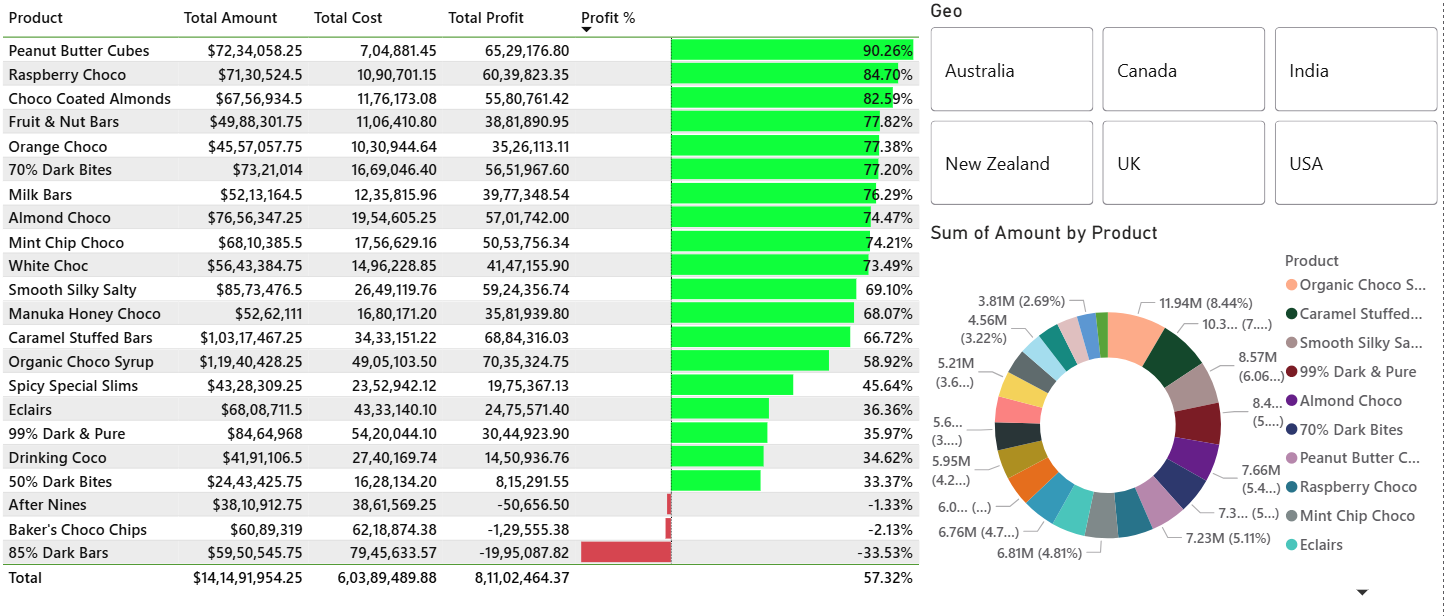

The page's visual inventory and layout, read from the dashboard file:
{"tool":"powerbi","page":{"name":"Page 1","canvas":[1280,720],"ordinal":0},"visuals":[{"type":"tableEx","fields":{"Values":["products.Product","shipments.Total Amount","shipments.Total Cost","shipments.Total Profit","shipments.Profit %"]},"box":[10,0,815,533.3],"z":0},{"type":"advancedSlicerVisual","fields":{"Values":["locations.Geo"]},"box":[825,0,455,186.7],"z":1000},{"type":"donutChart","fields":{"Category":["products.Product"],"Y":["Sum(shipments.Amount)"]},"box":[825,195,455,338.3],"z":2000}]}

Visuals, with their boxes on the page's 1280x720 design canvas (x1, y1, x2, y2). These are canvas units, not pixel positions in the 1444x616 screenshot, which may show the page scaled, cropped or inside an application window:
tableEx - products.Product x shipments.Total Amount: x1=10 y1=0 x2=825 y2=533
advancedSlicerVisual - locations.Geo: x1=825 y1=0 x2=1280 y2=187
donutChart - products.Product x Sum(shipments.Amount): x1=825 y1=195 x2=1280 y2=533
